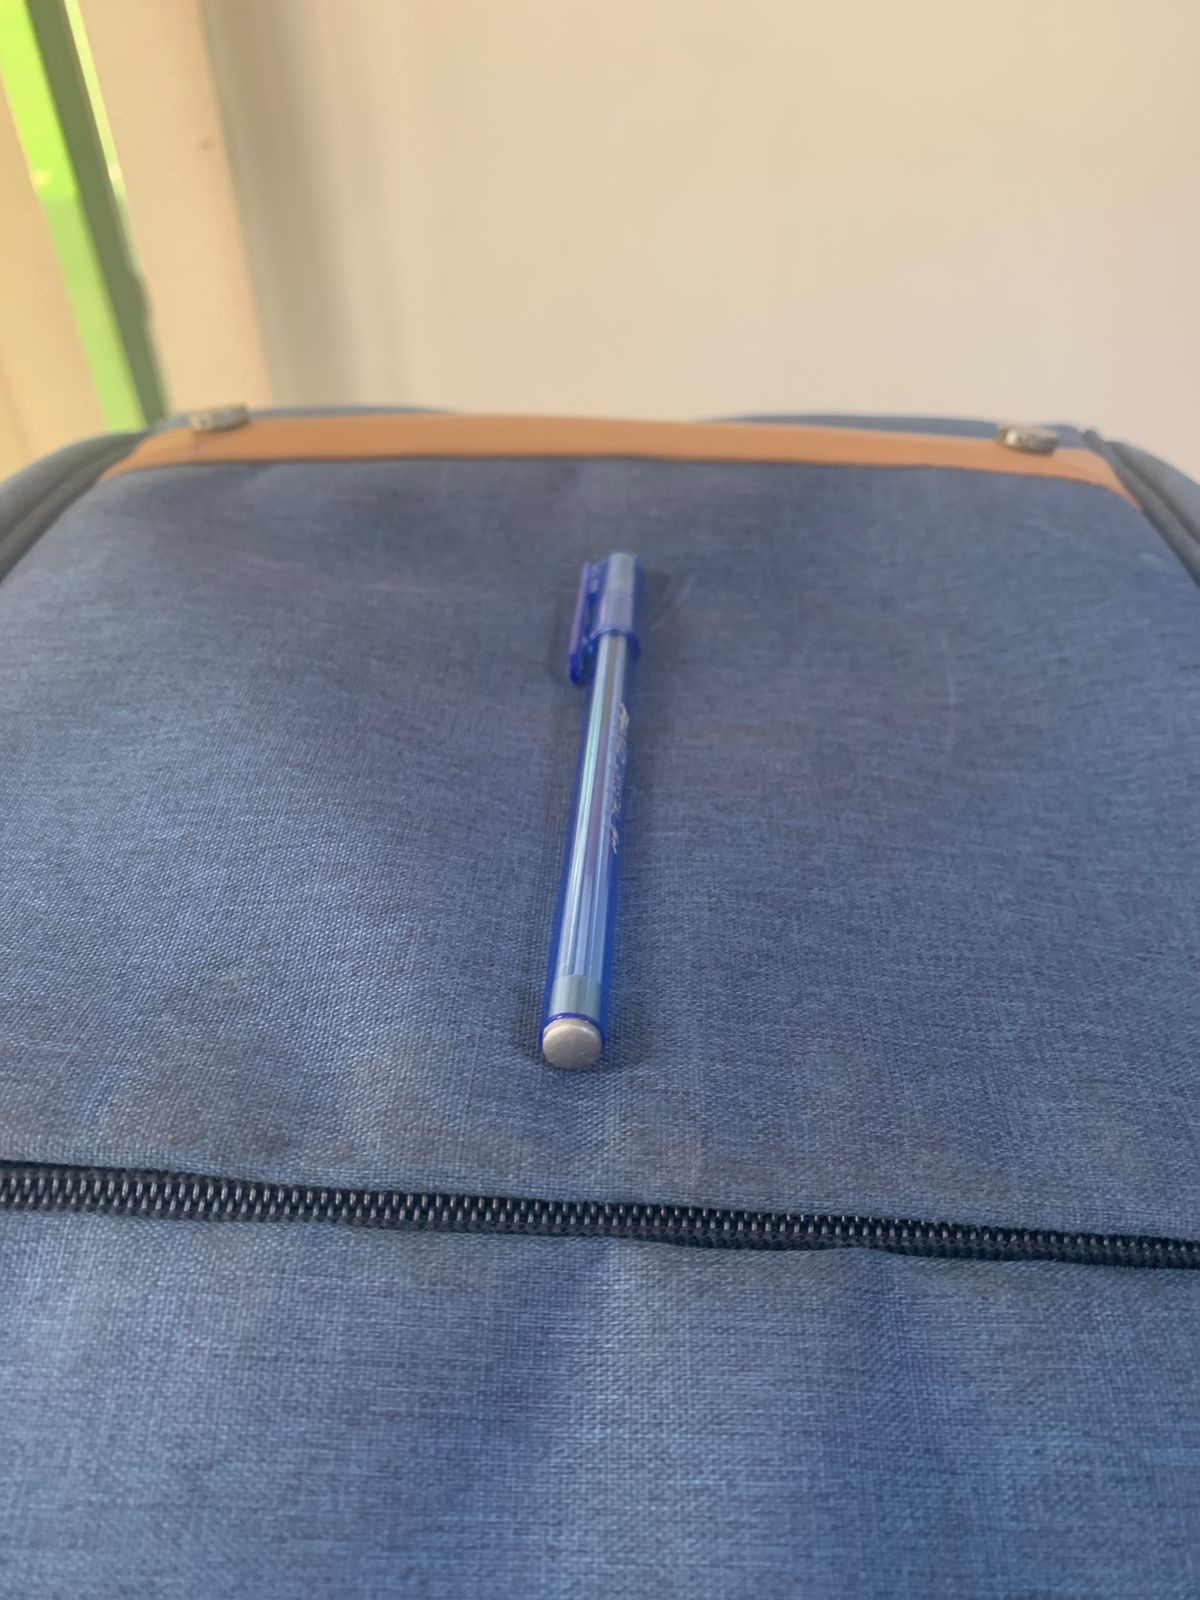pen: (435, 477, 763, 1202)
